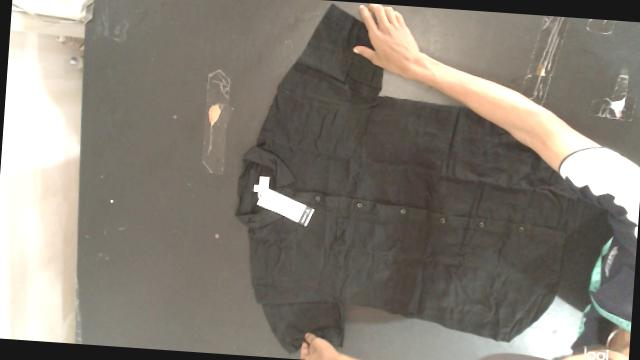new-garment: (236, 5, 597, 352)
